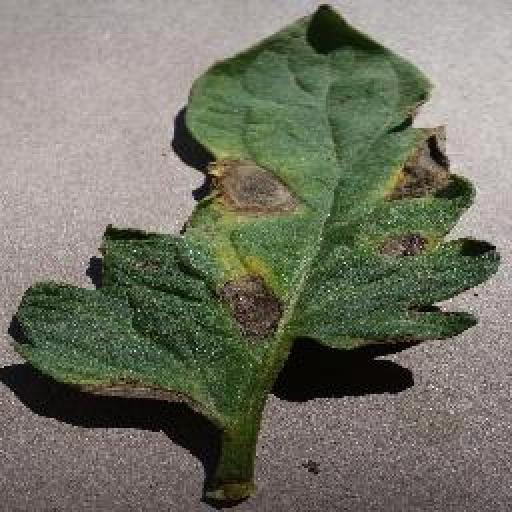disease_tomato: (18, 7, 500, 421)
